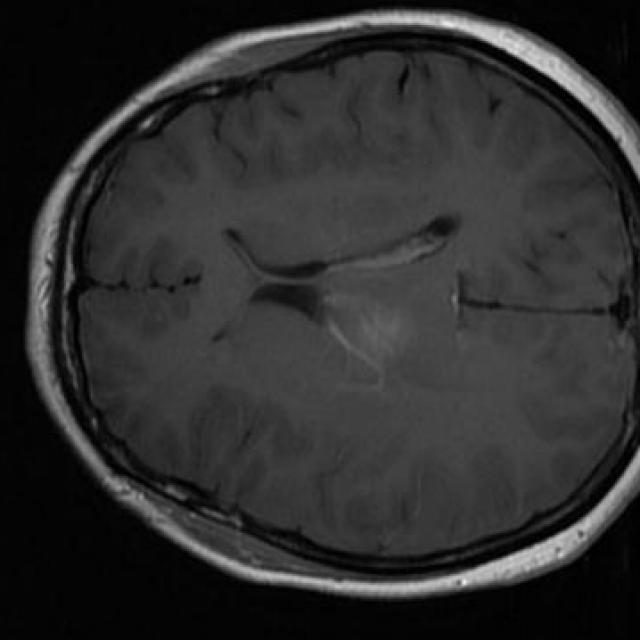meningioma: (321, 294, 414, 365)
